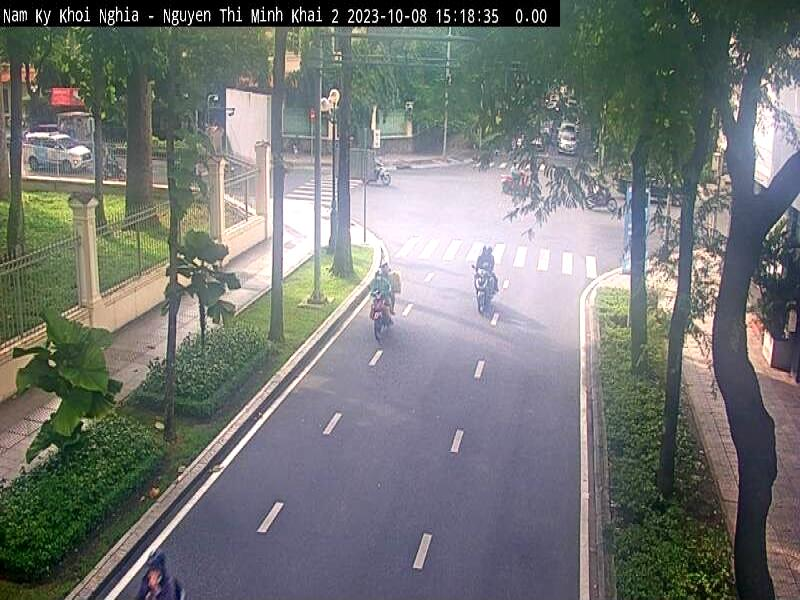car: (23, 132, 93, 174)
